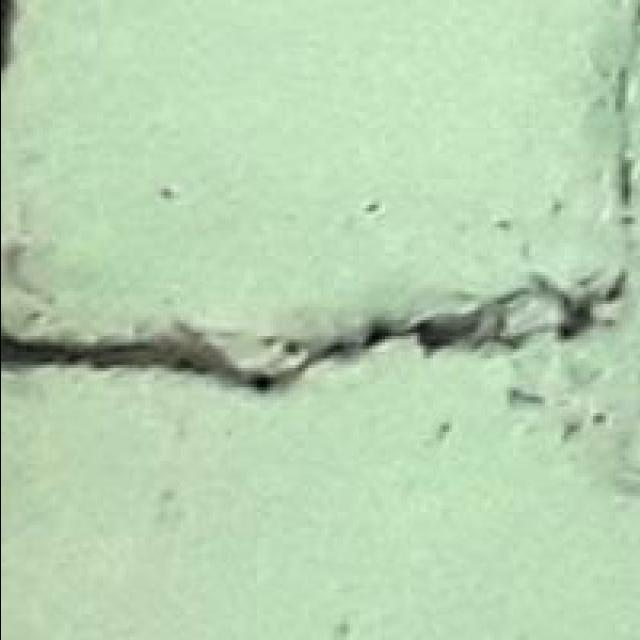SurfaceCrack: (0, 242, 620, 434)
